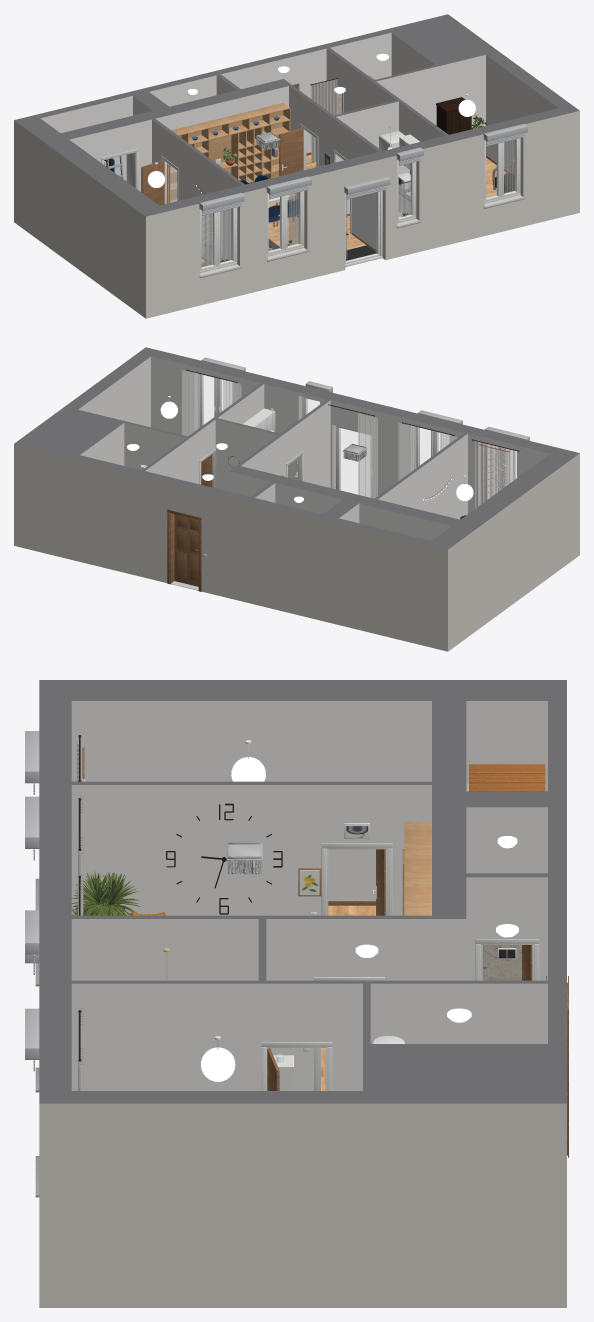
Rendered from flat.glb.
3 views of the same model, one above another, from view 1: azimuth 30°, elevation 25°; view 2: azimuth 150°, elevation 25°; view 3: azimuth 270°, elevation 25° (orthographic). The views are drawn at different scales.
Parts seen in each view (by area): view 1: walls_ext, walls_top, walls_study, walls_living, walls_bedroom, wall_unit, walls_hall, walls_bath, walls_kitchen, walls_closet, window_win_bedroom, window_win_living (+16 smaller); view 2: walls_ext, walls_top, walls_living, walls_study, walls_bedroom, walls_hall, walls_bath, walls_kitchen, curtain_bedroom, walls_closet, leaf_door_front, curtain_garden_l (+11 smaller); view 3: walls_ext, walls_top, walls_living, walls_bedroom, walls_study, walls_hall, walls_kitchen, walls_bath, walls_closet, walls_wc, wall_unit, loft_frame (+11 smaller).
Part boxes in pixels (bbox=[...]): walls_ext: bbox=[14, 111, 579, 318]; walls_top: bbox=[14, 14, 579, 216]; walls_study: bbox=[376, 55, 558, 171]; walls_living: bbox=[155, 86, 378, 249]; walls_bedroom: bbox=[70, 119, 241, 262]; wall_unit: bbox=[167, 103, 290, 203]; walls_hall: bbox=[221, 48, 396, 153]; walls_bath: bbox=[330, 32, 435, 94]; walls_kitchen: bbox=[336, 101, 445, 213]; walls_closet: bbox=[40, 96, 152, 181]; window_win_bedroom: bbox=[199, 193, 244, 277]; window_win_living: bbox=[266, 176, 311, 261]; walls_ext: bbox=[14, 372, 579, 651]; walls_top: bbox=[14, 347, 579, 549]; walls_living: bbox=[241, 400, 463, 498]; walls_study: bbox=[78, 356, 260, 435]; walls_bedroom: bbox=[378, 433, 549, 519]; walls_hall: bbox=[145, 419, 277, 496]; walls_bath: bbox=[80, 423, 185, 469]; walls_kitchen: bbox=[217, 384, 326, 479]; curtain_bedroom: bbox=[475, 441, 516, 508]; walls_closet: bbox=[339, 503, 451, 540]; leaf_door_front: bbox=[174, 514, 198, 586]; curtain_garden_l: bbox=[358, 412, 377, 498]; walls_ext: bbox=[39, 1103, 566, 1307]; walls_top: bbox=[39, 680, 566, 1103]; walls_living: bbox=[71, 785, 431, 915]; walls_bedroom: bbox=[71, 701, 431, 900]; walls_study: bbox=[71, 983, 362, 1090]; walls_hall: bbox=[266, 877, 547, 1090]; walls_kitchen: bbox=[71, 919, 258, 980]; walls_bath: bbox=[370, 983, 547, 1043]; walls_closet: bbox=[466, 701, 547, 791]; walls_wc: bbox=[466, 807, 547, 873]; wall_unit: bbox=[402, 821, 431, 915]; loft_frame: bbox=[469, 764, 545, 791].
Size of the model in its own units: 13.13 by 3.03 by 7.13.
Materials: 94 (43 with a texture image).
